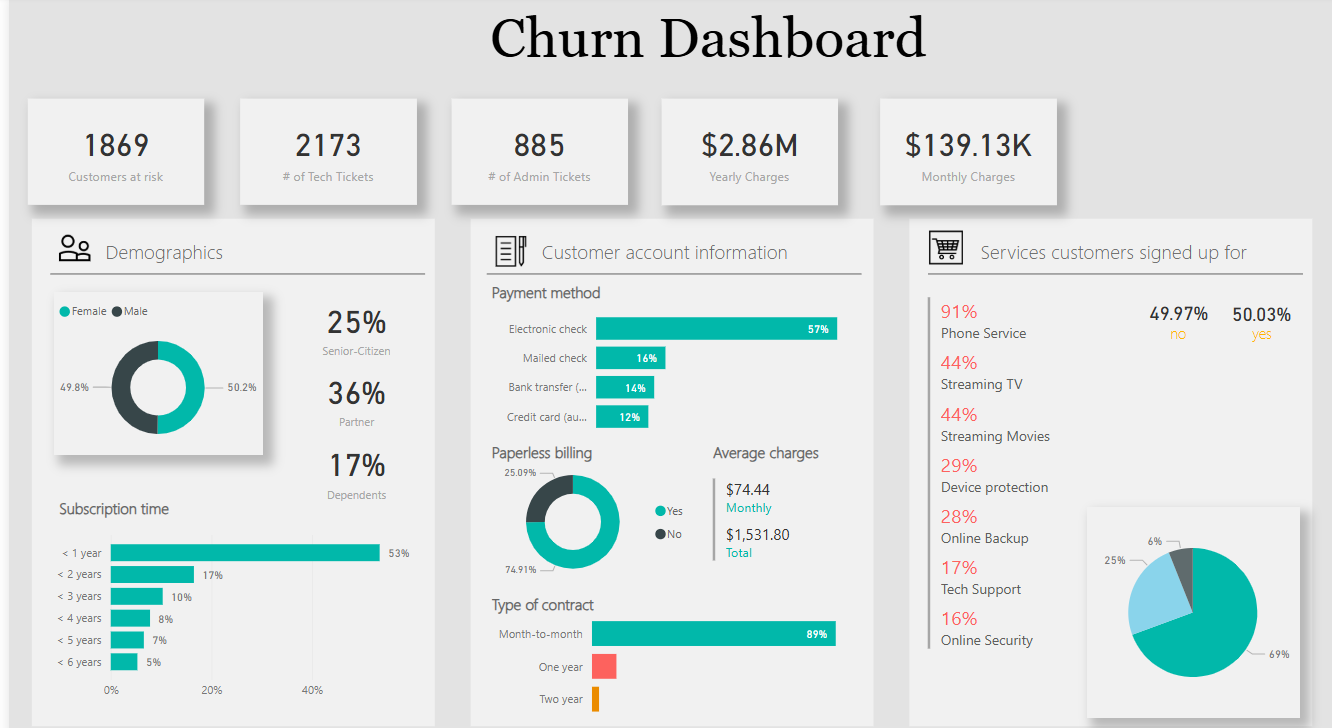

The page's visual inventory and layout, read from the dashboard file:
{"tool":"powerbi","page":{"name":"Churn","canvas":[1280,720],"ordinal":1},"visuals":[{"type":"textbox","box":[87.7,4.9,1173.8,75],"z":0},{"type":"basicShape","box":[18.3,210,396.8,499.9],"z":2000},{"type":"card","fields":{"Values":["CountNonNull(churn.customerID)"]},"box":[18.5,99.4,170,102.3],"z":3000},{"type":"basicShape","box":[441.6,210,396.8,499.9],"z":4000},{"type":"basicShape","box":[864.9,210,396.8,499.9],"z":5000},{"type":"textbox","box":[508.5,228.6,314.9,35.6],"z":6000},{"type":"basicShape","box":[450.7,248.9,381.4,39.5],"z":7000},{"type":"image","box":[461.3,226.3,47.2,39.5],"z":8000},{"type":"textbox","box":[932.7,228.6,314.9,35.6],"z":9000},{"type":"basicShape","box":[877.4,248.9,381.4,39.5],"z":10000},{"type":"textbox","box":[88,228.6,314.9,35.6],"z":11000},{"type":"basicShape","box":[30.2,248.9,381.4,39.5],"z":12000},{"type":"image","box":[883.2,220.6,42.4,43.3],"z":13000},{"type":"image","box":[43.3,220.6,40.5,44.3],"z":14000},{"type":"donutChart","fields":{"Category":["churn.gender"],"Y":["CountNonNull(churn.gender)"]},"box":[43.8,286,201.3,156.6],"z":15000},{"type":"card","fields":{"Values":["churn.SeniorCitizen in %"]},"box":[271.4,268.7,128.1,100.2],"z":16000},{"type":"card","fields":{"Values":["churn.Partner in %"]},"box":[271.4,338.1,128.4,100.2],"z":17000},{"type":"card","fields":{"Values":["churn.Dependents in %"]},"box":[271.4,407.5,128.4,100.2],"z":18000},{"type":"clusteredBarChart","fields":{"Category":["churn.Contract"],"Y":["CountNonNull(churn.Contract)"]},"box":[461.3,577.9,370.8,131.9],"z":19000},{"type":"clusteredBarChart","fields":{"Y":["CountNonNull(churn.PaymentMethod)"],"Category":["churn.PaymentMethod"]},"box":[461.3,286,370.8,148.3],"z":20000},{"type":"textbox","box":[461.3,269.7,314.9,35.6],"z":21000},{"type":"textbox","box":[461.3,424.7,204.2,35.6],"z":22000},{"type":"donutChart","fields":{"Category":["churn.PaperlessBilling"],"Y":["CountNonNull(churn.PaperlessBilling)"]},"box":[461.3,438.2,204.2,139.7],"z":23000},{"type":"multiRowCard","fields":{"Values":["Avg(churn.MonthlyCharges)","Avg(churn.TotalCharges)"]},"box":[674.2,460.4,149.3,95.3],"z":24000},{"type":"textbox","box":[461.3,572.1,314.9,35.6],"z":25000},{"type":"pieChart","fields":{"Category":["churn.InternetService"],"Y":["Divide(CountNonNull(churn.InternetService), ScopedEval(CountNonNull(churn.InternetService), []))"]},"box":[1040.4,492.9,205.5,203.6],"z":26000},{"type":"card","fields":{"Values":["churn.Multiple Lines in %"]},"box":[1172.8,276.4,72.2,62.6],"z":27000},{"type":"card","fields":{"Values":["churn.Multiple lines no in %"]},"box":[1093.1,276.4,72.2,61.6],"z":28000},{"type":"textbox","box":[1092.2,311,73.2,35.6],"z":30000},{"type":"textbox","box":[1172.8,311,73.2,35.6],"z":31000},{"type":"textbox","box":[674.2,424.7,148.3,35.6],"z":32000},{"type":"multiRowCard","fields":{"Values":["churn.Phone Service in %","churn.Streaming TV in %","churn.Streaming Movies in %","churn.Device protection in %","churn.Online Bacup in %","churn.Tech Support in %","churn.Online Sec. in %"]},"box":[882.2,286,165.3,414.3],"z":33000},{"type":"clusteredBarChart","fields":{"Y":["CountNonNull(churn.Churn)"],"Category":["churn.Loyalty"]},"box":[37,507.7,365.7,179],"z":36000},{"type":"textbox","box":[43.8,478.5,314.2,35],"z":37000},{"type":"card","fields":{"Values":["Sum(churn.MonthlyCharges)"]},"box":[841.2,98.8,170.2,102.9],"z":41000},{"type":"card","fields":{"Values":["Sum(churn.numTechTickets)"]},"box":[222.8,99.4,170,102.3],"z":44000},{"type":"card","fields":{"Values":["Sum(churn.numAdminTickets)"]},"box":[427.1,99.4,170,102.3],"z":45000},{"type":"card","fields":{"Values":["Sum(churn.TotalCharges)"]},"box":[629.8,98.8,170.2,102.9],"z":46000}]}

Visuals, with their boxes in screenshot pixels (x1, y1, x2, y2), scaled from the page's 1280x720 canvas onto the 1332x728 screenshot:
textbox: select_region(91, 5, 1313, 81)
basicShape: select_region(19, 212, 432, 718)
card - CountNonNull(churn.customerID): select_region(19, 101, 196, 204)
basicShape: select_region(460, 212, 872, 718)
basicShape: select_region(900, 212, 1313, 718)
textbox: select_region(529, 231, 857, 267)
basicShape: select_region(469, 252, 866, 292)
image: select_region(480, 229, 529, 269)
textbox: select_region(971, 231, 1298, 267)
basicShape: select_region(913, 252, 1310, 292)
textbox: select_region(92, 231, 419, 267)
basicShape: select_region(31, 252, 428, 292)
image: select_region(919, 223, 963, 267)
image: select_region(45, 223, 87, 268)
donutChart - churn.gender x CountNonNull(churn.gender): select_region(46, 289, 255, 448)
card - churn.SeniorCitizen in %: select_region(282, 272, 416, 373)
card - churn.Partner in %: select_region(282, 342, 416, 443)
card - churn.Dependents in %: select_region(282, 412, 416, 513)
clusteredBarChart - churn.Contract x CountNonNull(churn.Contract): select_region(480, 584, 866, 718)
clusteredBarChart - CountNonNull(churn.PaymentMethod) x churn.PaymentMethod: select_region(480, 289, 866, 439)
textbox: select_region(480, 273, 808, 309)
textbox: select_region(480, 429, 693, 465)
donutChart - churn.PaperlessBilling x CountNonNull(churn.PaperlessBilling): select_region(480, 443, 693, 584)
multiRowCard - Avg(churn.MonthlyCharges) x Avg(churn.TotalCharges): select_region(702, 466, 857, 562)
textbox: select_region(480, 578, 808, 614)
pieChart - churn.InternetService x Divide(CountNonNull(churn.InternetService), ScopedEval(CountNonNull(churn.InternetService), [])): select_region(1083, 498, 1297, 704)
card - churn.Multiple Lines in %: select_region(1220, 279, 1296, 343)
card - churn.Multiple lines no in %: select_region(1138, 279, 1213, 342)
textbox: select_region(1137, 314, 1213, 350)
textbox: select_region(1220, 314, 1297, 350)
textbox: select_region(702, 429, 856, 465)
multiRowCard - churn.Phone Service in % x churn.Streaming TV in %: select_region(918, 289, 1090, 708)
clusteredBarChart - CountNonNull(churn.Churn) x churn.Loyalty: select_region(39, 513, 419, 694)
textbox: select_region(46, 484, 373, 519)
card - Sum(churn.MonthlyCharges): select_region(875, 100, 1052, 204)
card - Sum(churn.numTechTickets): select_region(232, 101, 409, 204)
card - Sum(churn.numAdminTickets): select_region(444, 101, 621, 204)
card - Sum(churn.TotalCharges): select_region(655, 100, 832, 204)
